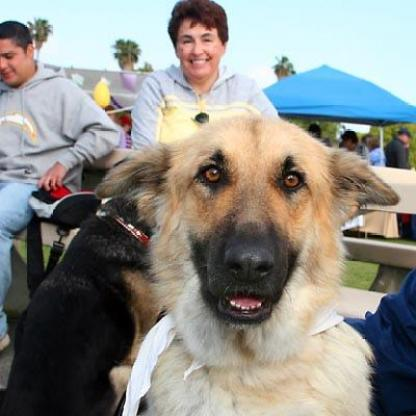German_shepherd: (92, 113, 400, 414)
